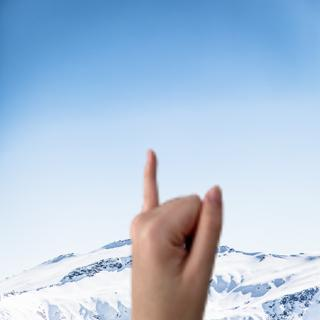Fine: (122, 143, 232, 316)
